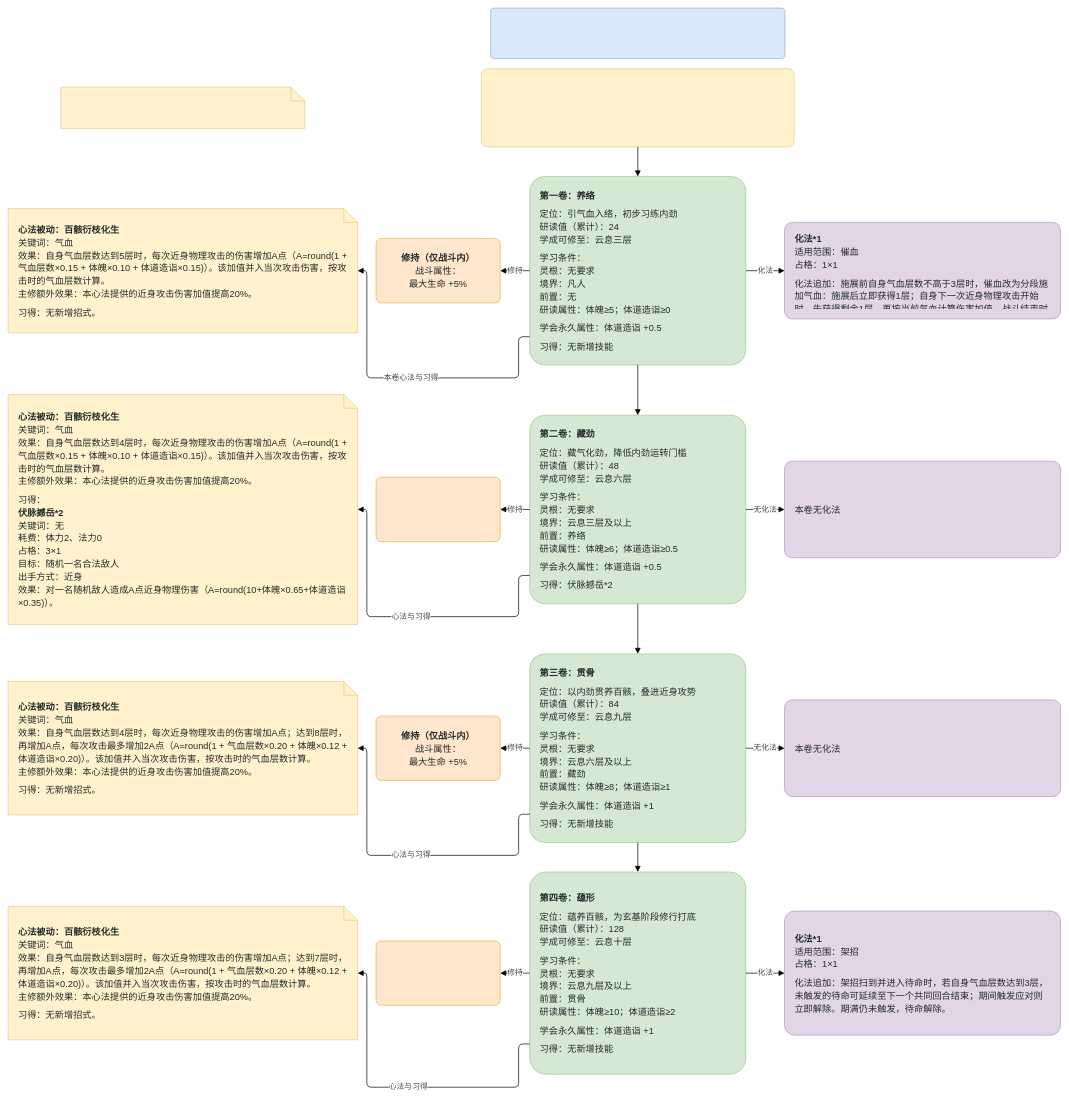
Some shapes in this 1069 by 1101 pixel diagram are drawn without their labels. The shapes that lost their labels are listed below. From the top down, each one's centre as x and y in pixels, then its label:
At (x=637, y=33): "《百骸衍枝化生宝册》".
At (x=182, y=108): "以内炼气血锻养百骸、蓄养内劲，为玄基阶段打基础。".
At (x=637, y=107): "百骸衍枝化生宝册 可主修、可辅修，主修至云息十层。 已学招式自行配入招式盘，化法占单格并指向紧邻的一份。 每轮结束可以重新配招；心法由当前主辅修自动生效。".
At (x=438, y=509): "修持（仅战斗内） 战斗属性： 物理伤害 +3%".
At (x=438, y=972): "修持（仅战斗内） 战斗属性： 物理伤害 +4%".
